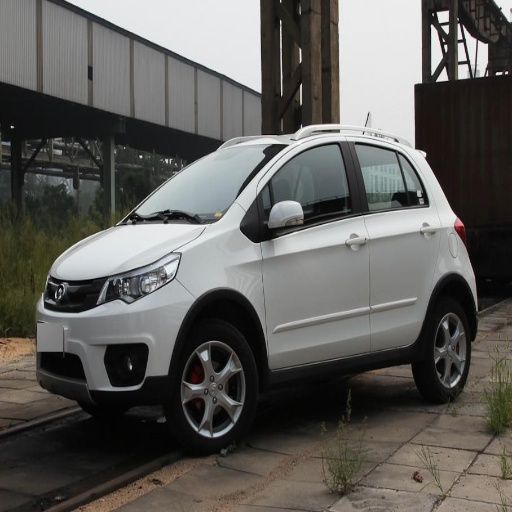back_left_door: (348, 138, 440, 348)
front_bumper: (33, 266, 193, 407)
front_glass: (121, 146, 277, 224)
front_left_door: (259, 138, 370, 367)
